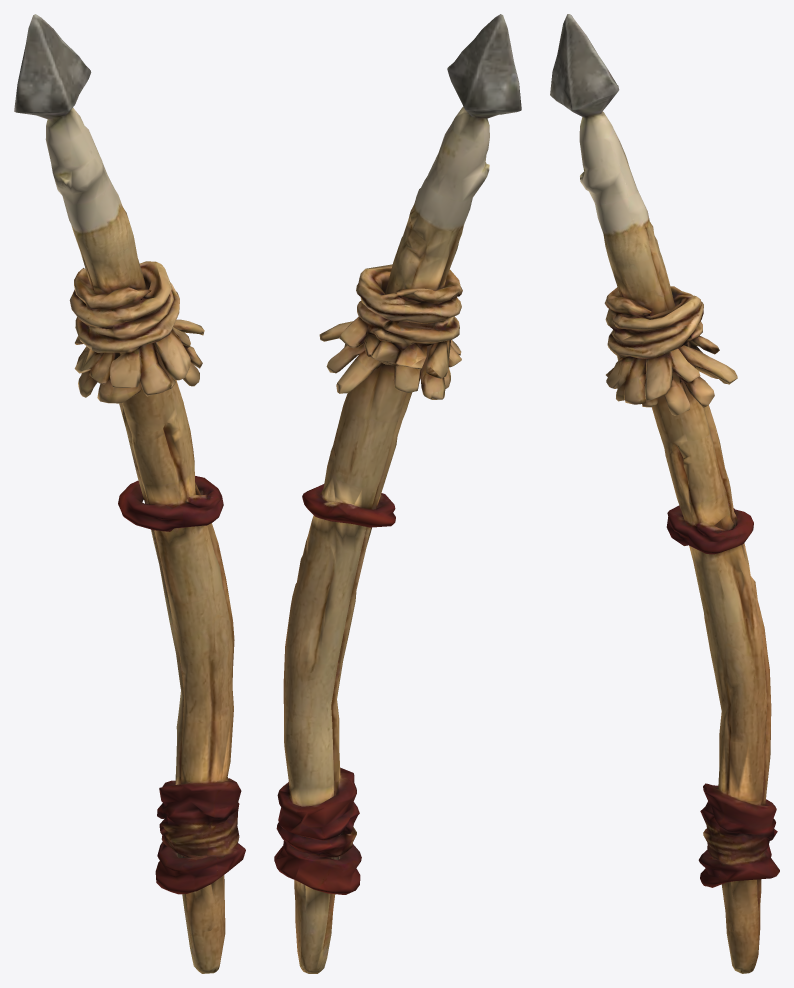
The model's file is jabalina.glb.
3 renders of one model, left to right at view 1: azimuth 30°, elevation 25°; view 2: azimuth 150°, elevation 25°; view 3: azimuth 330°, elevation 25°, orthographic. The views are drawn at different scales.
Visible parts, largest first — view 1: tripo_node_e32a1212-5bd5-4475-a6f8-0e8263927380; view 2: tripo_node_e32a1212-5bd5-4475-a6f8-0e8263927380; view 3: tripo_node_e32a1212-5bd5-4475-a6f8-0e8263927380.
Part boxes in pixels (x1,y1,x2,y2): tripo_node_e32a1212-5bd5-4475-a6f8-0e8263927380: [14, 14, 245, 973]; tripo_node_e32a1212-5bd5-4475-a6f8-0e8263927380: [274, 14, 521, 973]; tripo_node_e32a1212-5bd5-4475-a6f8-0e8263927380: [550, 14, 779, 973].
Bounding box in the file's own units: 0.2464 × 0.9989 × 0.1178.
1 material, 1 textured.
